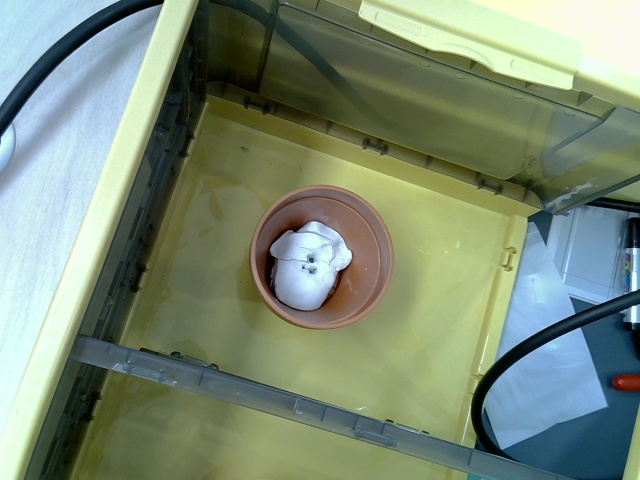화분: (247, 183, 399, 330)
